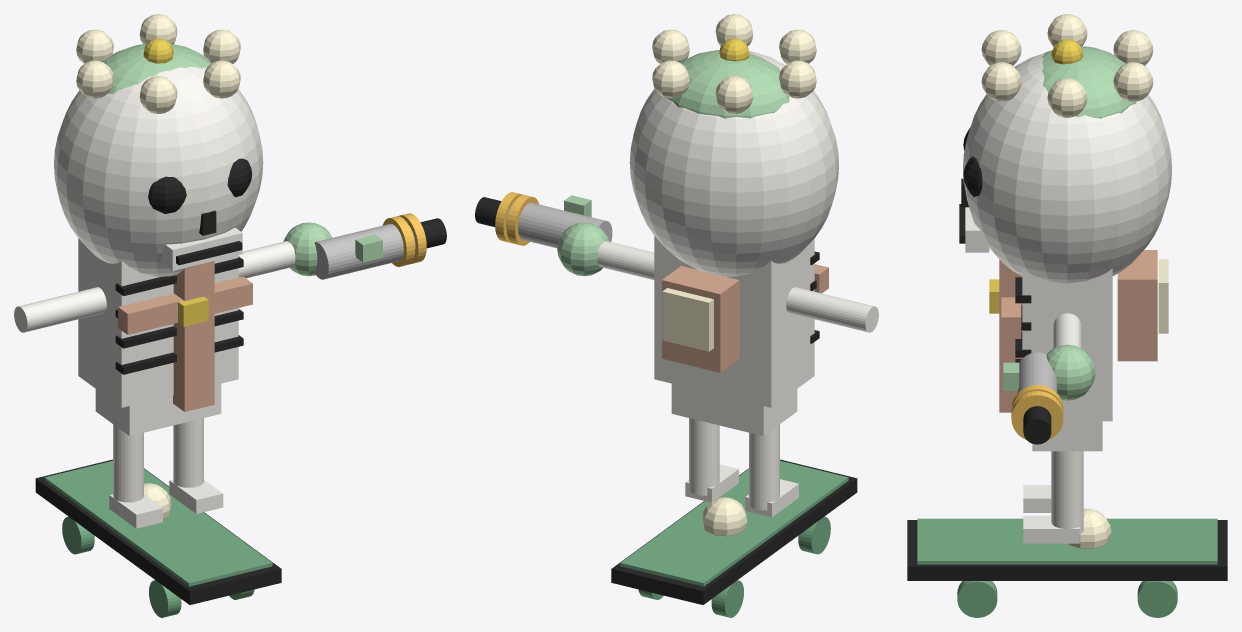
The model's file is skull_pepe_hero.glb.
The picture shows the model from 3 angles, left to right: view 1: azimuth 30°, elevation 25°; view 2: azimuth 150°, elevation 25°; view 3: azimuth 270°, elevation 25°; orthographic projection. The views are drawn at different scales.
Parts seen in each view (by area): view 1: Skull, Ribcage, DeckTop, StrapV, Deck, StrapH, Pelvis, RayGunBody, ArmL, Brain, LegL, LegR (+25 smaller); view 2: Skull, Ribcage, DeckTop, Deck, Brain, DeliveryBag, Pelvis, BagPaper, ArmL, LegL, RayGunBody, LegR (+17 smaller); view 3: Skull, DeckTop, Ribcage, Deck, DeliveryBag, Brain, LegR, GreenGlove, Pelvis, StrapV, RayRing2, WheelBR (+19 smaller).
Boxes of the visible parts, x1=… form: Skull: x1=54, y1=66, x2=263, y2=276; Ribcage: x1=78, y1=238, x2=238, y2=407; DeckTop: x1=44, y1=460, x2=272, y2=586; StrapV: x1=173, y1=261, x2=214, y2=411; Deck: x1=35, y1=459, x2=281, y2=604; StrapH: x1=118, y1=276, x2=252, y2=334; Pelvis: x1=95, y1=383, x2=221, y2=435; RayGunBody: x1=314, y1=223, x2=415, y2=279; ArmL: x1=14, y1=287, x2=106, y2=332; Brain: x1=103, y1=43, x2=210, y2=93; LegL: x1=113, y1=424, x2=143, y2=502; LegR: x1=173, y1=418, x2=203, y2=487; Skull: x1=629, y1=51, x2=838, y2=276; Ribcage: x1=654, y1=236, x2=814, y2=407; DeckTop: x1=620, y1=460, x2=848, y2=586; Deck: x1=611, y1=459, x2=857, y2=604; Brain: x1=666, y1=50, x2=789, y2=118; DeliveryBag: x1=662, y1=266, x2=739, y2=372; Pelvis: x1=671, y1=383, x2=797, y2=435; BagPaper: x1=662, y1=288, x2=713, y2=351; ArmL: x1=786, y1=287, x2=878, y2=332; LegL: x1=749, y1=424, x2=779, y2=510; RayGunBody: x1=506, y1=202, x2=612, y2=248; LegR: x1=689, y1=418, x2=719, y2=495; Skull: x1=963, y1=53, x2=1171, y2=283; DeckTop: x1=917, y1=518, x2=1217, y2=564; Ribcage: x1=1022, y1=268, x2=1112, y2=421; Deck: x1=907, y1=520, x2=1227, y2=580; DeliveryBag: x1=1117, y1=250, x2=1157, y2=361; Brain: x1=1042, y1=46, x2=1136, y2=118; LegR: x1=1051, y1=451, x2=1083, y2=536; GreenGlove: x1=1046, y1=344, x2=1095, y2=400; Pelvis: x1=1032, y1=421, x2=1102, y2=451; StrapV: x1=999, y1=259, x2=1022, y2=412; RayRing2: x1=1011, y1=391, x2=1063, y2=439; WheelBR: x1=957, y1=581, x2=997, y2=617.
Bounding box in the file's own units: 2.43 × 3.06 × 1.6.
